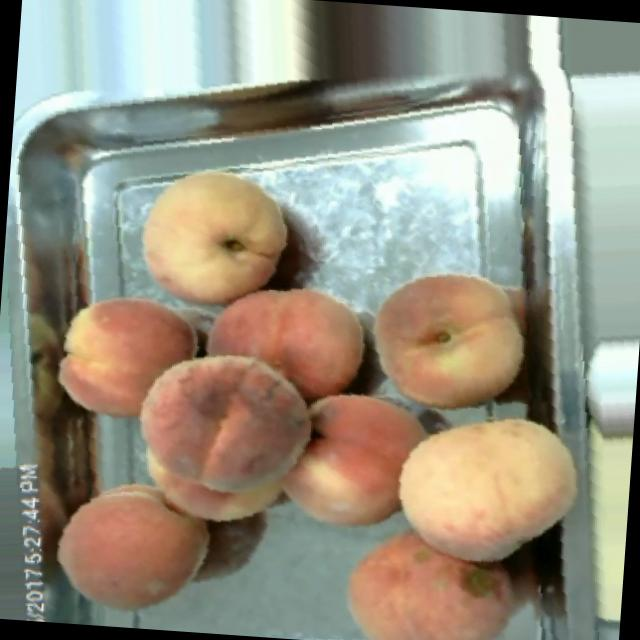Fruit: (112, 322, 340, 546), (381, 391, 587, 574), (115, 144, 308, 332), (36, 463, 227, 631), (33, 267, 215, 439), (183, 256, 383, 409), (354, 252, 537, 418), (269, 372, 433, 542), (326, 508, 534, 640)
